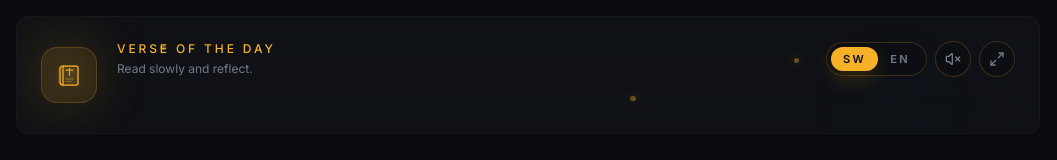
Test: PortalHome verse localization › preserves verse-language toggle storage behavior and localized empty state
The width and height of the screenshot is (1057, 160).
Click the button "en": x=900, y=59 [878,47,922,71]
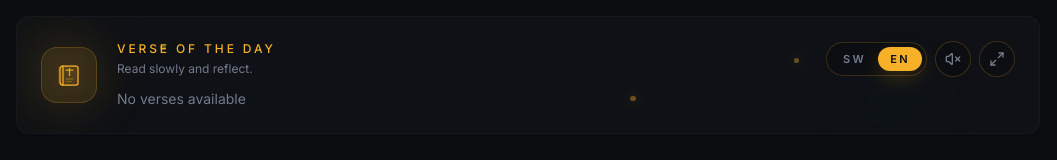
Result: the text "No verses available" is shown at [117,90,246,107]
